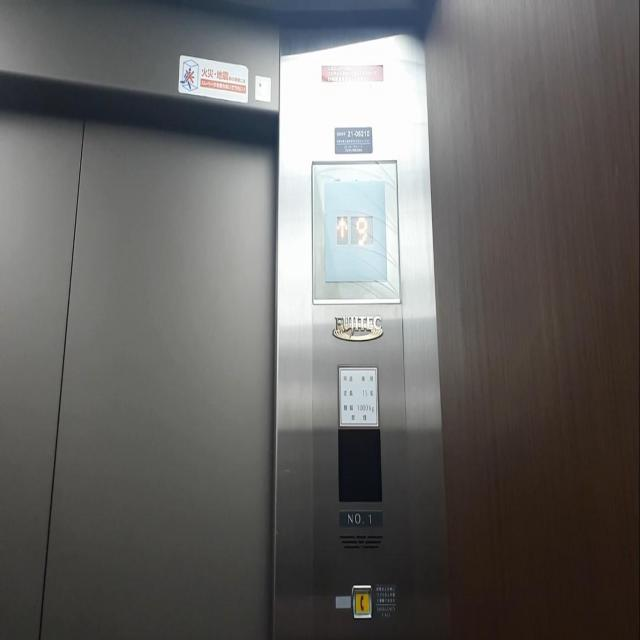call: (351, 584, 373, 621)
led: (322, 177, 388, 284), (337, 428, 382, 502)
